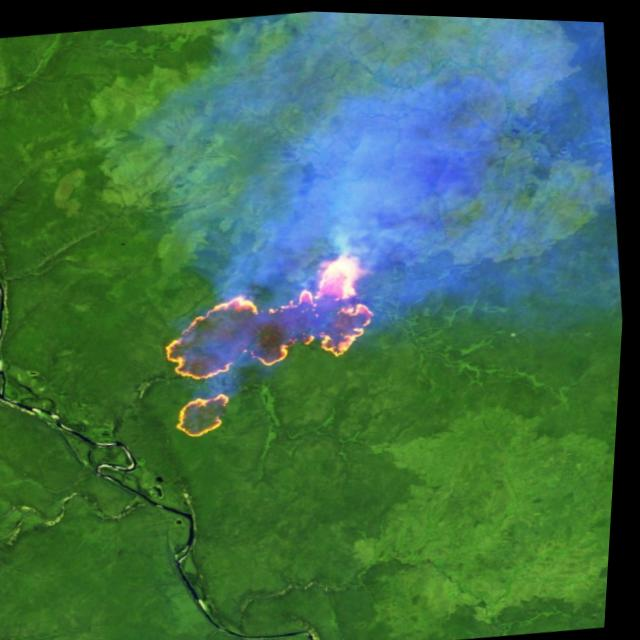fire: (154, 241, 396, 389), (174, 384, 248, 440)
